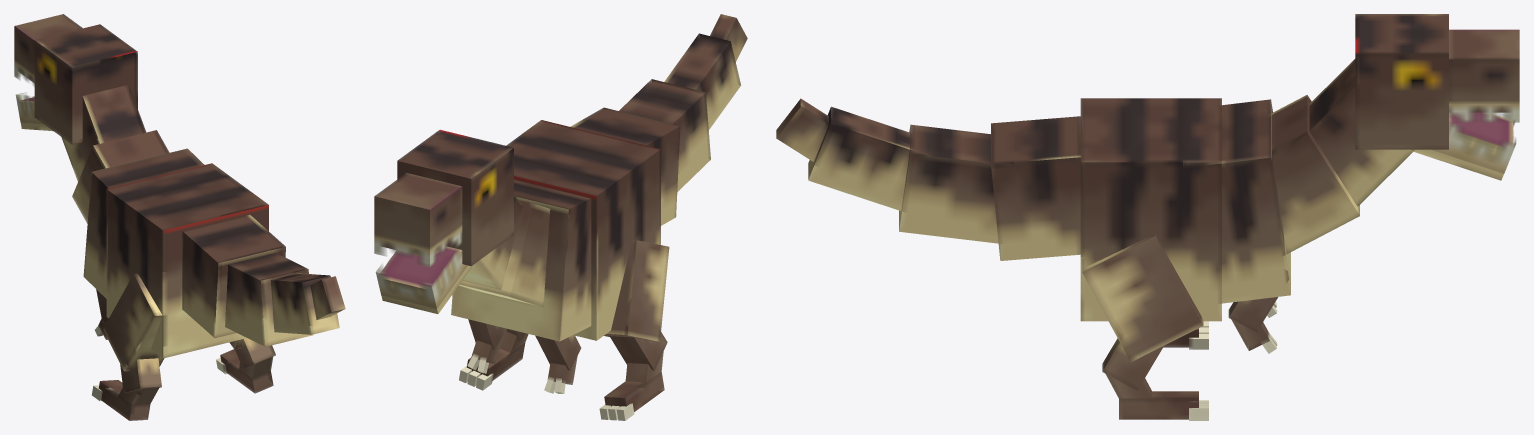
3 renders of one model, left to right at view 1: azimuth 30°, elevation 25°; view 2: azimuth 150°, elevation 25°; view 3: azimuth 270°, elevation 25°, orthographic. The views are drawn at different scales.
Visible parts, largest first — view 1: _gltfNode_0, _gltfNode_21, _gltfNode_5, _gltfNode_7, _gltfNode_2, _gltfNode_58, _gltfNode_19, _gltfNode_9, _gltfNode_17, _gltfNode_23, _gltfNode_60, _gltfNode_64 (+7 smaller); view 2: _gltfNode_0, _gltfNode_2, _gltfNode_21, _gltfNode_23, _gltfNode_7, _gltfNode_58, _gltfNode_17, _gltfNode_5, _gltfNode_9, _gltfNode_29, _gltfNode_27, _gltfNode_19 (+11 smaller); view 3: _gltfNode_0, _gltfNode_21, _gltfNode_5, _gltfNode_2, _gltfNode_7, _gltfNode_34, _gltfNode_17, _gltfNode_9, _gltfNode_19, _gltfNode_23, _gltfNode_29, _gltfNode_11 (+6 smaller).
Boxes of the visible parts, bbox=[...] form: _gltfNode_0: bbox=[106, 163, 268, 358]; _gltfNode_21: bbox=[34, 24, 137, 144]; _gltfNode_5: bbox=[182, 214, 285, 337]; _gltfNode_7: bbox=[219, 250, 312, 346]; _gltfNode_2: bbox=[83, 148, 219, 298]; _gltfNode_58: bbox=[103, 272, 166, 371]; _gltfNode_19: bbox=[61, 85, 146, 181]; _gltfNode_9: bbox=[260, 273, 339, 334]; _gltfNode_17: bbox=[72, 130, 169, 223]; _gltfNode_23: bbox=[14, 14, 82, 82]; _gltfNode_60: bbox=[120, 343, 161, 393]; _gltfNode_64: bbox=[98, 380, 150, 420]; _gltfNode_0: bbox=[506, 120, 660, 340]; _gltfNode_2: bbox=[451, 175, 597, 341]; _gltfNode_21: bbox=[397, 129, 513, 266]; _gltfNode_23: bbox=[374, 173, 462, 256]; _gltfNode_7: bbox=[619, 79, 710, 191]; _gltfNode_58: bbox=[604, 240, 669, 341]; _gltfNode_17: bbox=[459, 200, 569, 306]; _gltfNode_5: bbox=[570, 107, 680, 225]; _gltfNode_9: bbox=[664, 33, 741, 130]; _gltfNode_29: bbox=[379, 246, 473, 313]; _gltfNode_27: bbox=[375, 250, 467, 308]; _gltfNode_19: bbox=[462, 195, 522, 289]; _gltfNode_0: bbox=[1080, 98, 1221, 321]; _gltfNode_21: bbox=[1355, 14, 1448, 149]; _gltfNode_5: bbox=[991, 116, 1085, 260]; _gltfNode_2: bbox=[1183, 99, 1290, 303]; _gltfNode_7: bbox=[899, 124, 1014, 243]; _gltfNode_34: bbox=[1082, 234, 1203, 361]; _gltfNode_17: bbox=[1221, 95, 1359, 255]; _gltfNode_9: bbox=[808, 106, 933, 211]; _gltfNode_19: bbox=[1290, 57, 1414, 206]; _gltfNode_23: bbox=[1449, 29, 1519, 112]; _gltfNode_29: bbox=[1407, 112, 1513, 180]; _gltfNode_11: bbox=[776, 98, 839, 162].
Size of the model in its own units: 3.21 by 5.81 by 11.3.
1 material, 1 textured.
